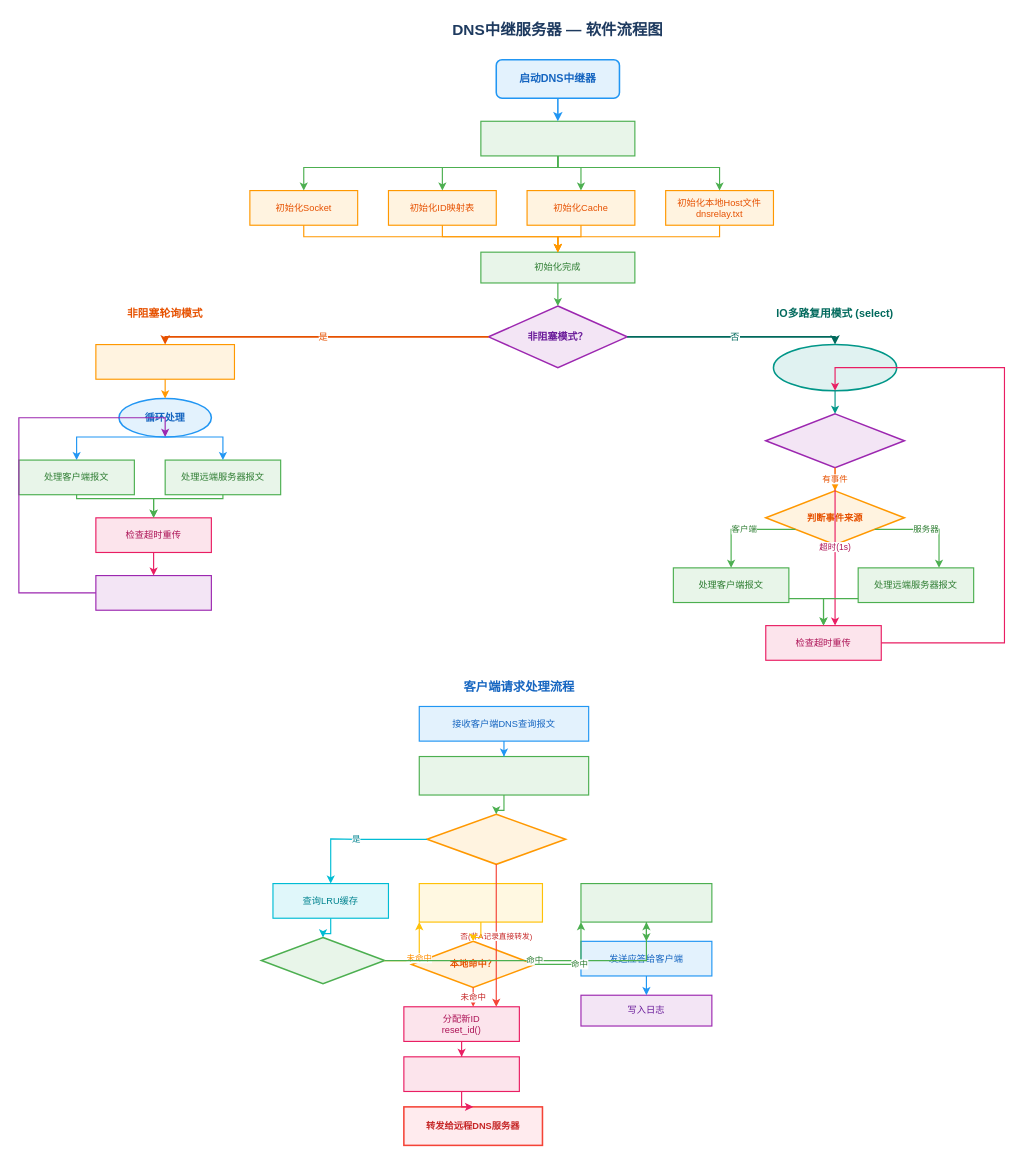
This 1025x1159 diagram has some shape labels left out. The box of each missing label's shape, as (x1, y1, x2, y2) in pixels:
A记录查询？: (426, 813, 566, 865)
Sleep(1ms) 防CPU跑满: (95, 575, 212, 610)
事件发生？: (765, 413, 905, 468)
保存查询报文 save_query(): (403, 1056, 520, 1092)
开始监听事件 等待事件发生: (772, 343, 897, 391)
构造DNS应答报文 dnsstruct_to_string(): (580, 883, 712, 922)
查询本地Trie树 (dnsrelay.txt): (418, 883, 543, 922)
缓存命中？: (260, 936, 385, 984)
获取程序命令参数: (480, 120, 635, 156)
解析DNS报文 string_to_dnsstruct(): (418, 756, 589, 795)
设置Socket为非阻塞模式: (95, 344, 235, 379)
